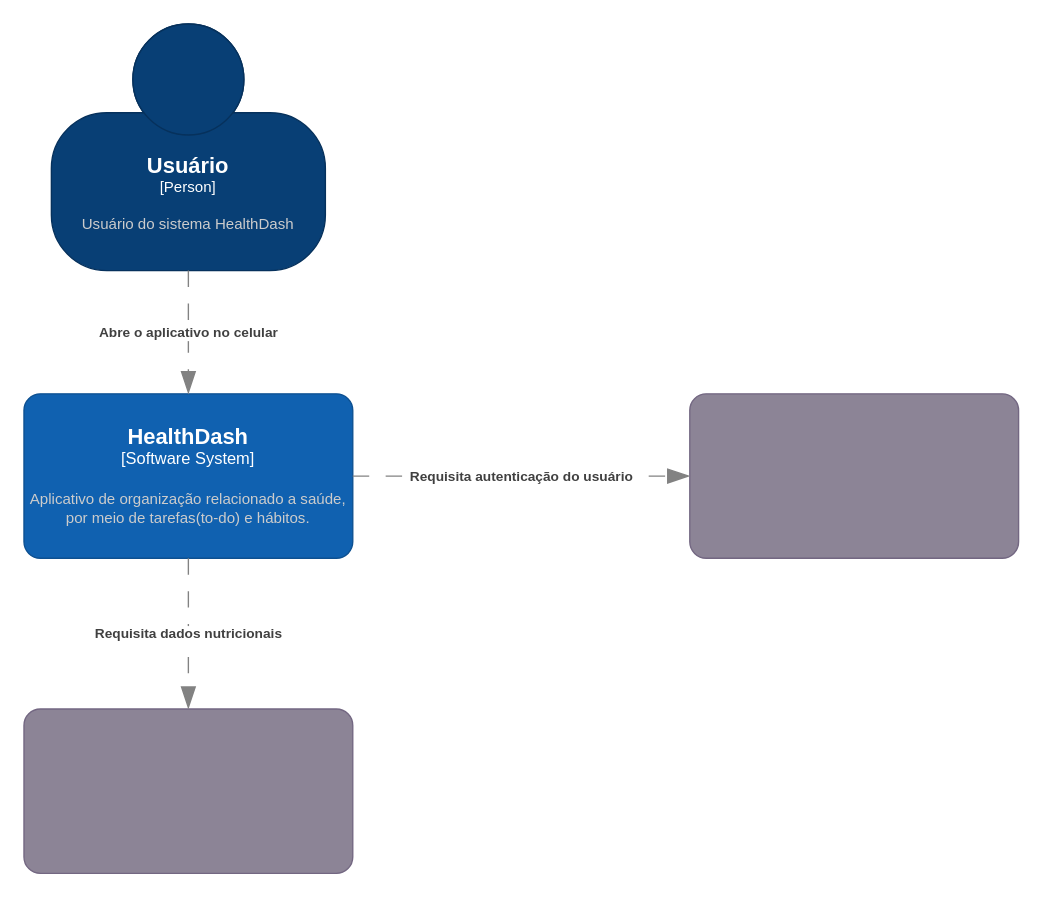
Image size: 1043x897. Some labels were removed from this diagram. Each missing label, with the box of its shape:
Google OAuth [Software System] Serviço utilizado para autenticação do usuário.: (688, 393, 1019, 558)
OpenAI [Software System] Serviço utilizado para carregar dado nutricionais.: (23, 708, 353, 873)
